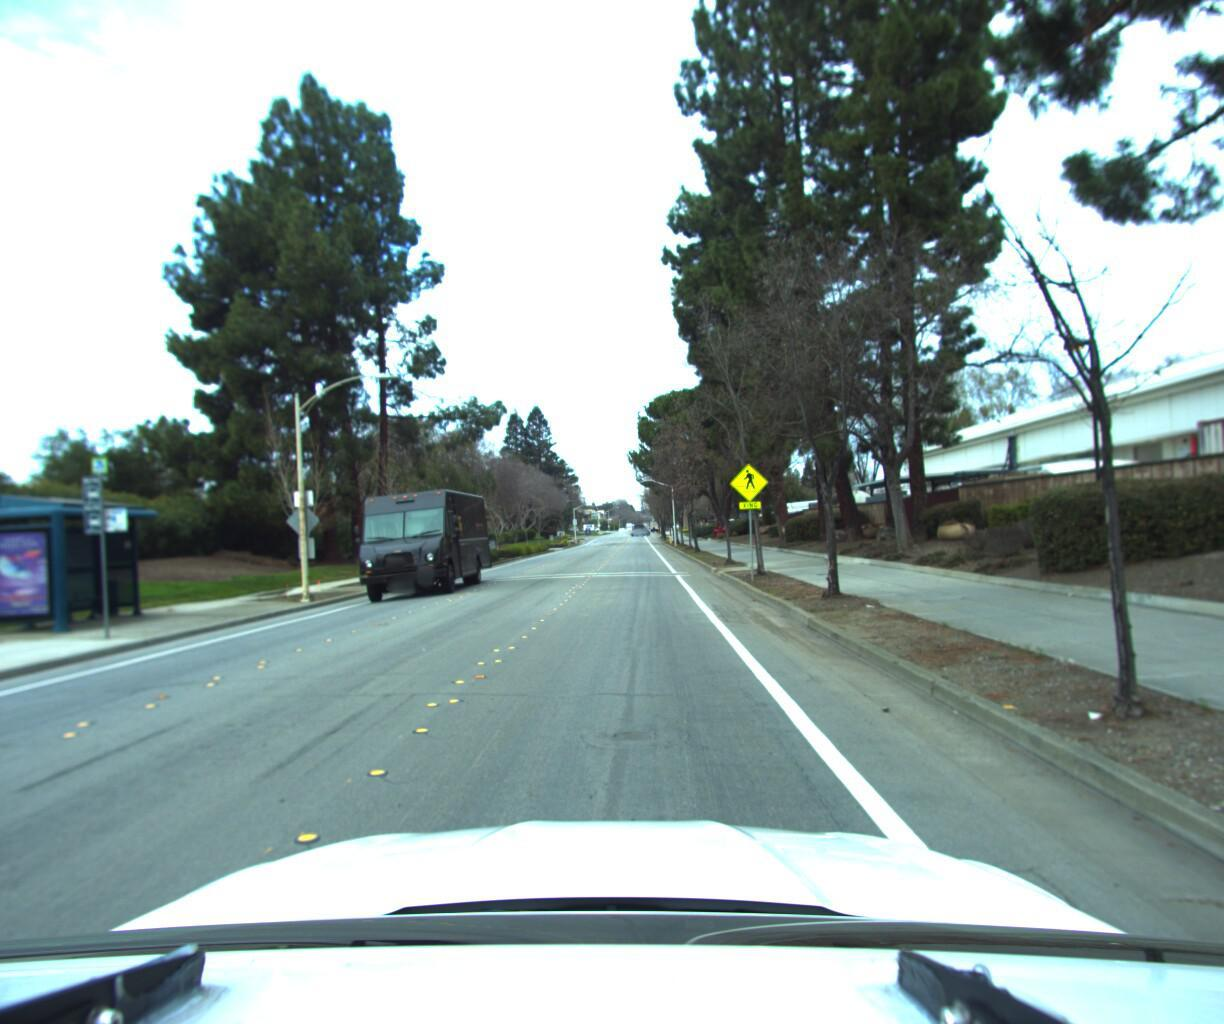other_vehicle: (774, 489, 894, 525)
truck: (340, 480, 499, 610)
